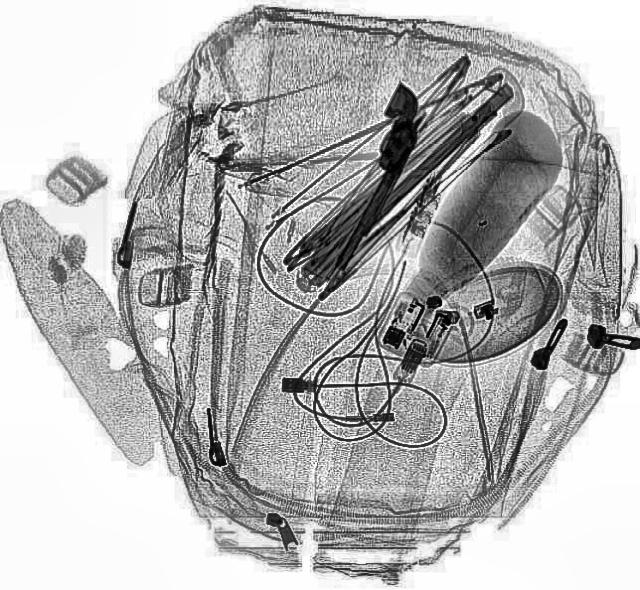Gun: (318, 80, 436, 272)
